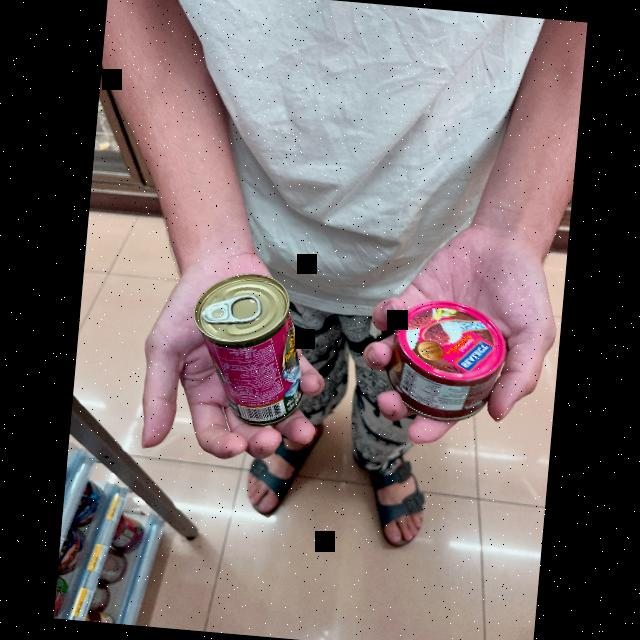can: (171, 252, 344, 439), (364, 288, 516, 420)
